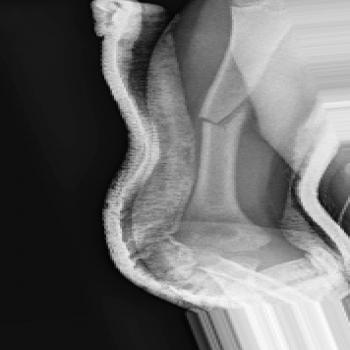Fracture: (197, 89, 261, 138)
